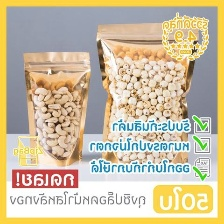snack: (92, 17, 205, 175), (17, 45, 95, 169)
